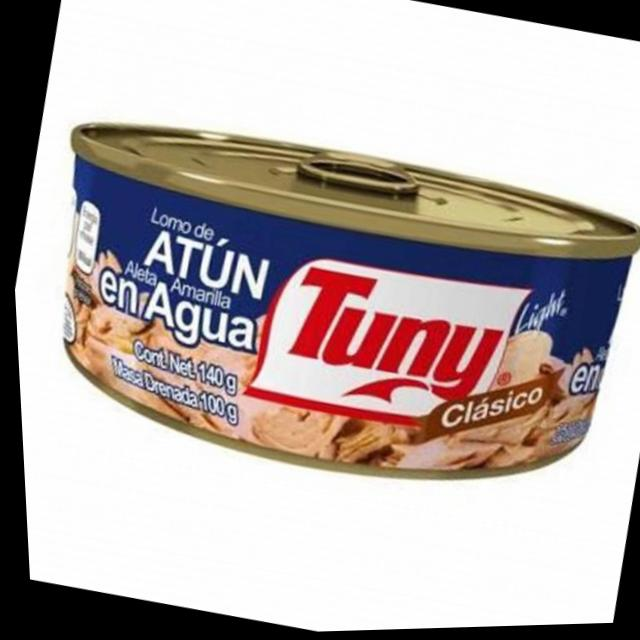Lata: (5, 82, 640, 540)
